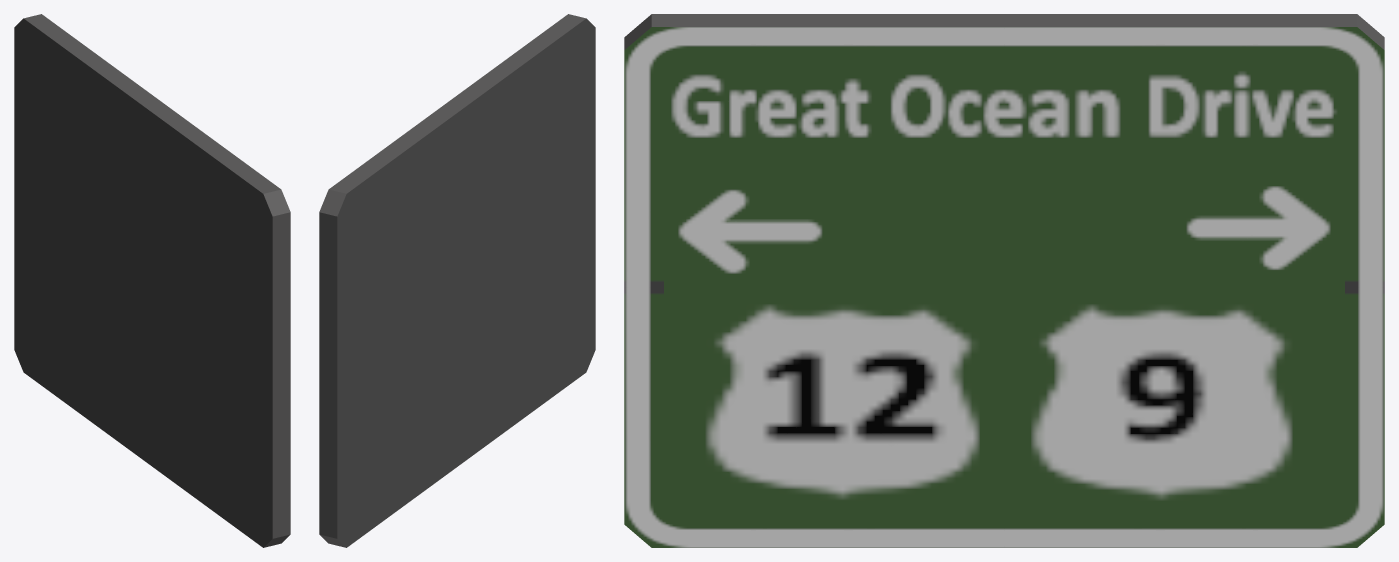
The model's file is Road_Sign_A4.fbx.
3 views of the same model, side by side, from view 1: azimuth 30°, elevation 25°; view 2: azimuth 150°, elevation 25°; view 3: azimuth 270°, elevation 25° (orthographic). The views are drawn at different scales.
Visible parts, largest first — view 1: Road_Sign_A4; view 2: Road_Sign_A4; view 3: Road_Sign_A4.
Boxes of the visible parts, x1=… form: Road_Sign_A4: x1=14, y1=14, x2=290, y2=547; Road_Sign_A4: x1=319, y1=14, x2=595, y2=547; Road_Sign_A4: x1=624, y1=14, x2=1384, y2=547.
Size of the model in its own units: 6.71 by 125 by 166.
1 material, 1 textured.
